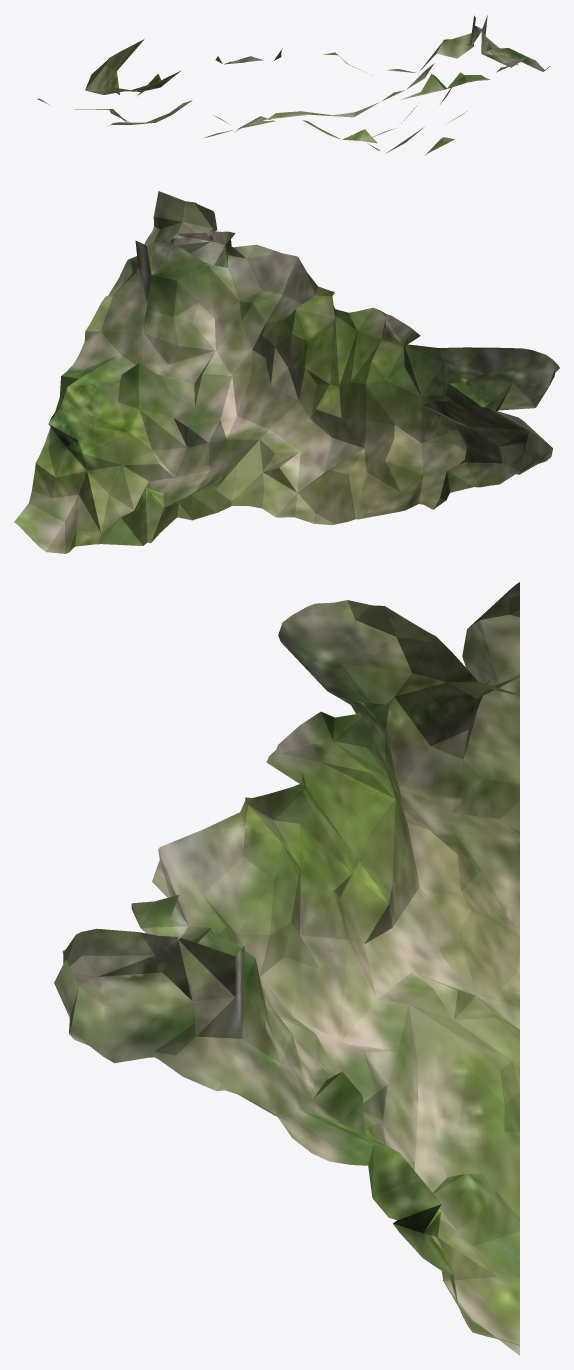
The picture shows the model from 3 angles, top to bottom: view 1: azimuth 30°, elevation 25°; view 2: azimuth 150°, elevation 25°; view 3: azimuth 270°, elevation 25°; orthographic projection. The views are drawn at different scales.
Size of the model in its own units: 19.39 by 8.58 by 9.09.
1 material, 1 textured.
